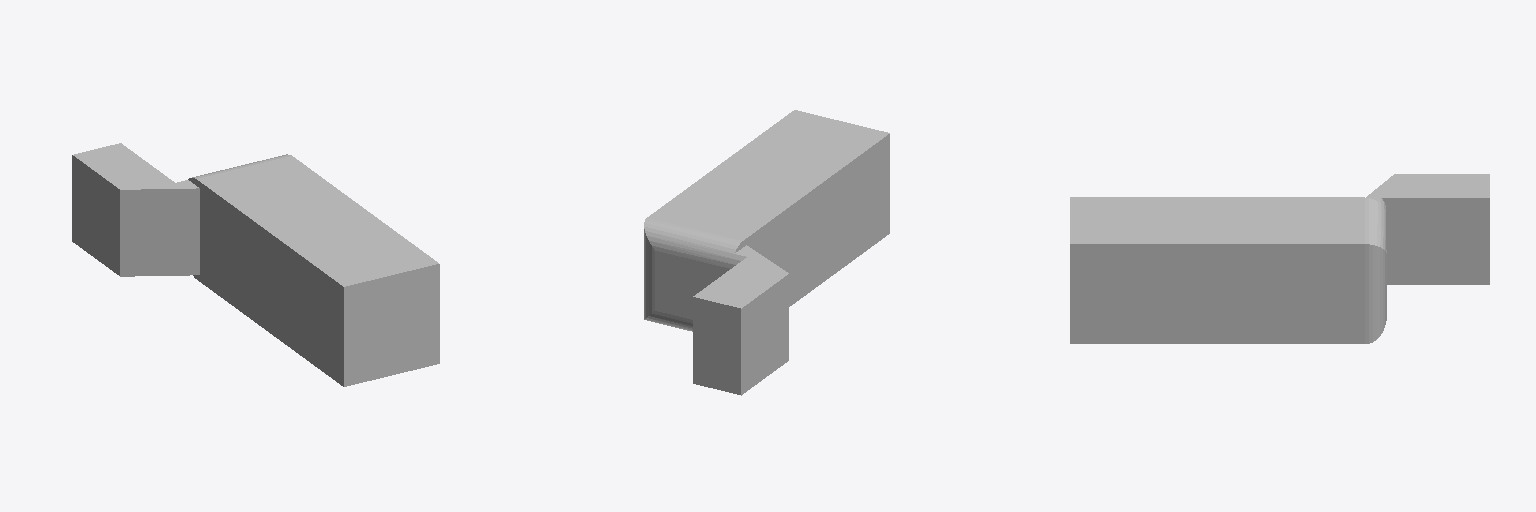
File: lower_arm.obj
3 renders of one model, left to right at view 1: azimuth 30°, elevation 25°; view 2: azimuth 150°, elevation 25°; view 3: azimuth 270°, elevation 25°, orthographic.
Visible parts, largest first — view 1: link4; view 2: link4; view 3: link4.
Part boxes in pixels (x1,y1,x2,y2): link4: (72,143,439,386); link4: (644,110,889,395); link4: (1070,174,1489,343).
Size of the model in its own units: 123 by 75 by 285.